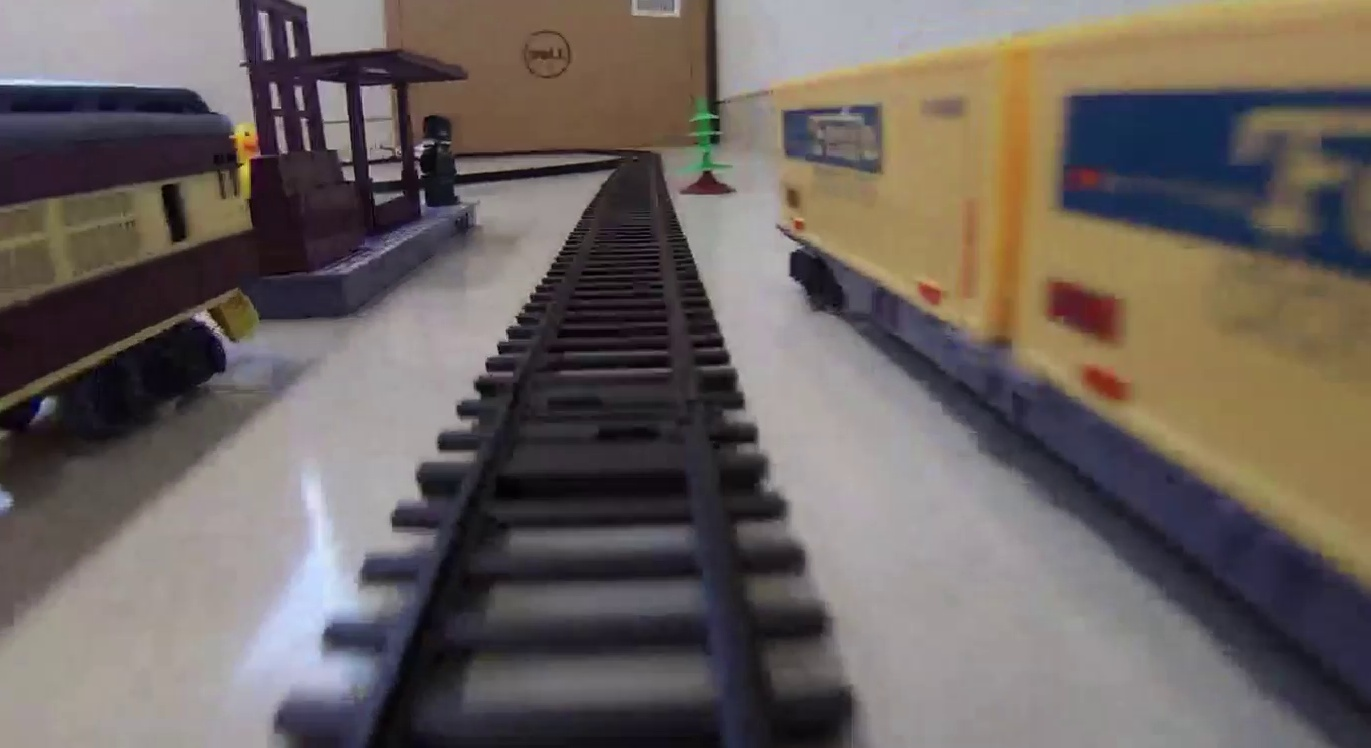people: (419, 113, 460, 208)
tree: (678, 92, 734, 193)
